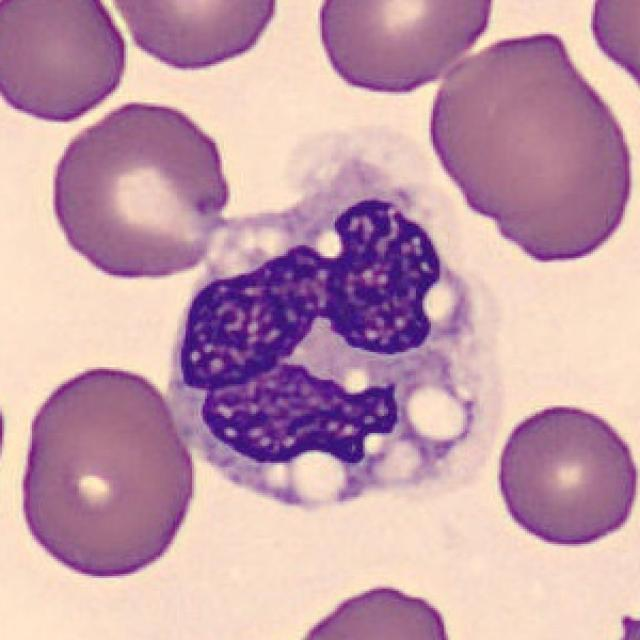White Blood Cell: (172, 156, 496, 503)
